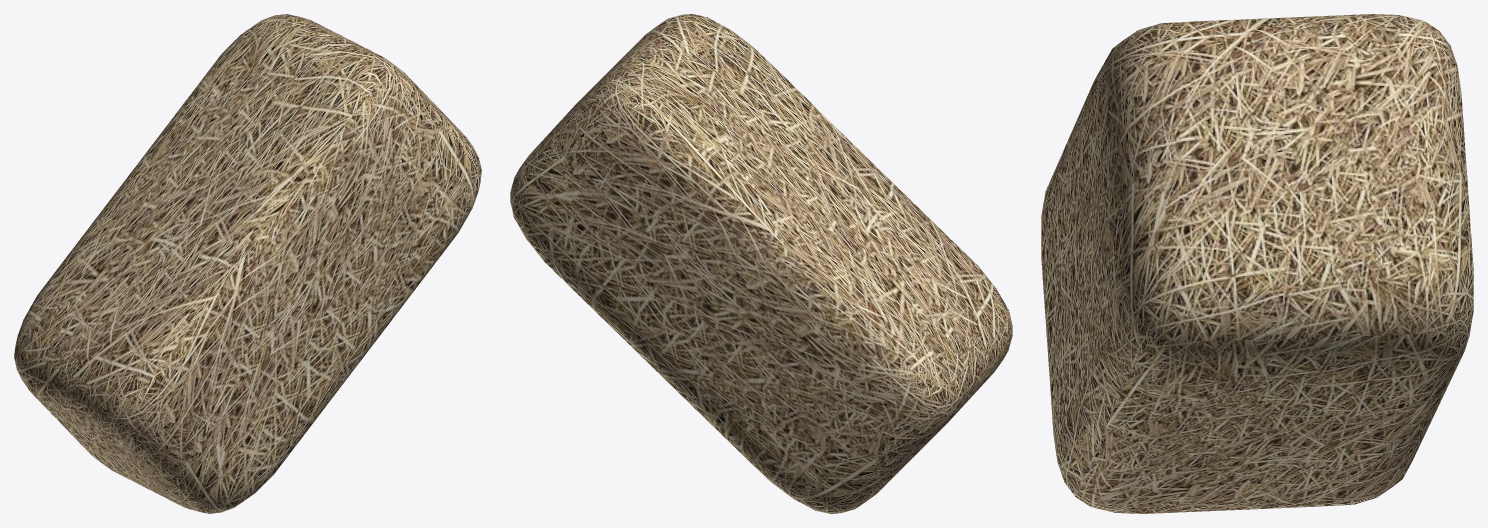
Rendered from haybale.glb.
The picture shows the model from 3 angles, left to right: view 1: azimuth 30°, elevation 25°; view 2: azimuth 150°, elevation 25°; view 3: azimuth 270°, elevation 25°; orthographic projection. The views are drawn at different scales.
Parts seen in each view (by area): view 1: prefab; view 2: prefab; view 3: prefab.
Boxes of the visible parts, x1,y1,x2,y2 form: prefab: [14, 14, 481, 513]; prefab: [510, 14, 1012, 513]; prefab: [1041, 14, 1473, 513].
Bounding box in the file's own units: 0.9351 × 0.8508 × 0.5391.
1 material, 1 textured.
